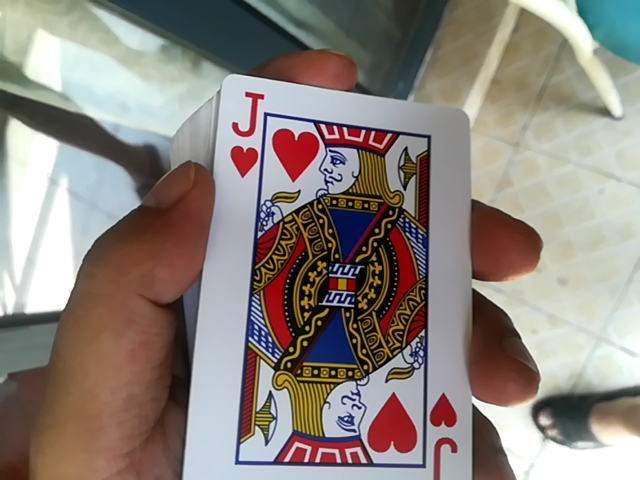hx j: (190, 74, 459, 474)
